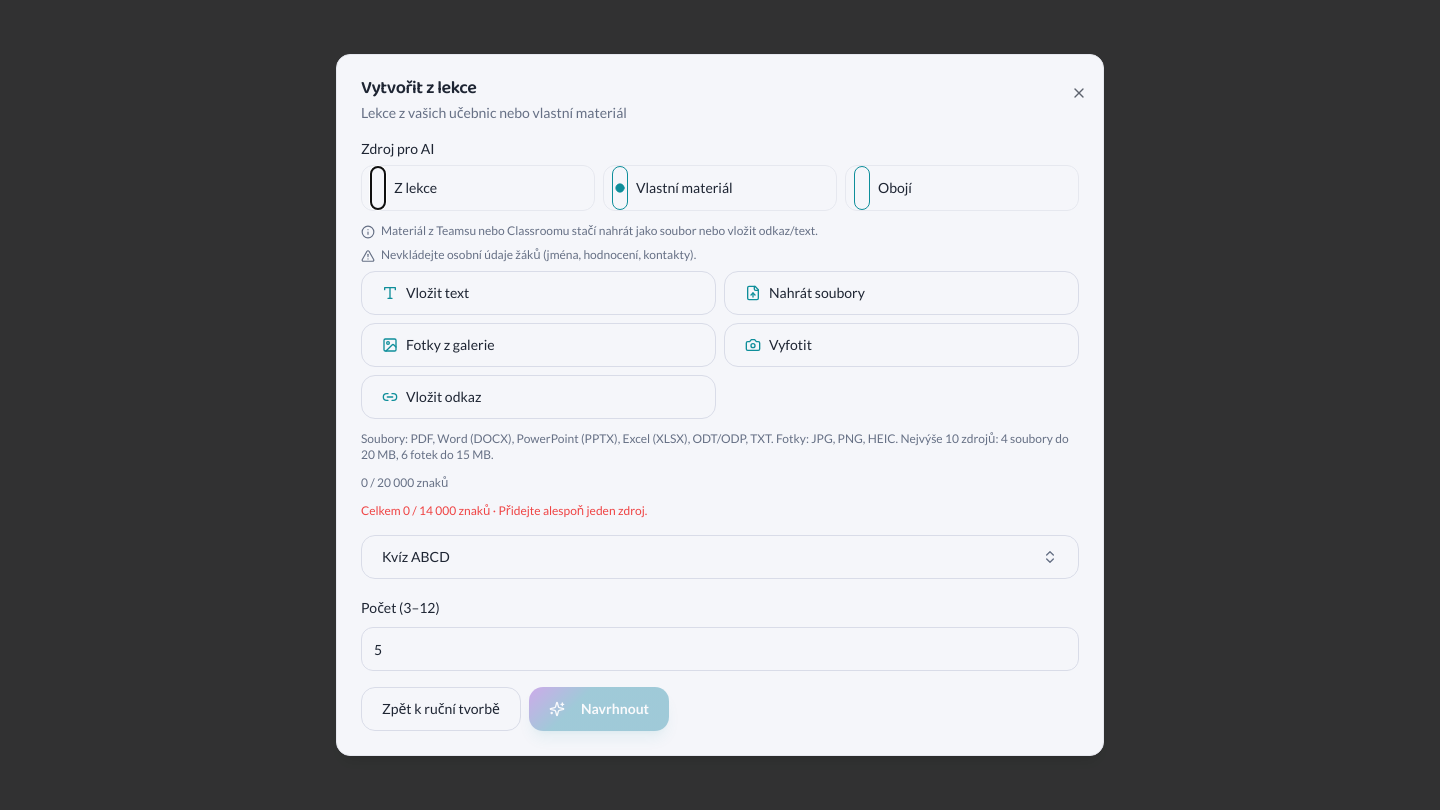
Test case: Vytvořit z lekce – lokální kontrola › bez lekcí poradí další krok a nabídne vložení textu
Later steps or results of the test are not shown.
Expected: the text "Materiál z Teamsu nebo Classroomu" is shown, top-left (381, 223), bottom-right (818, 238)
Expected: the 2nd radio button named "Vlastní materiál" is checked, top-left (612, 166), bottom-right (628, 210)
Click the 1st radio button named "Z lekce": (378, 188) top-left (370, 166), bottom-right (386, 210)
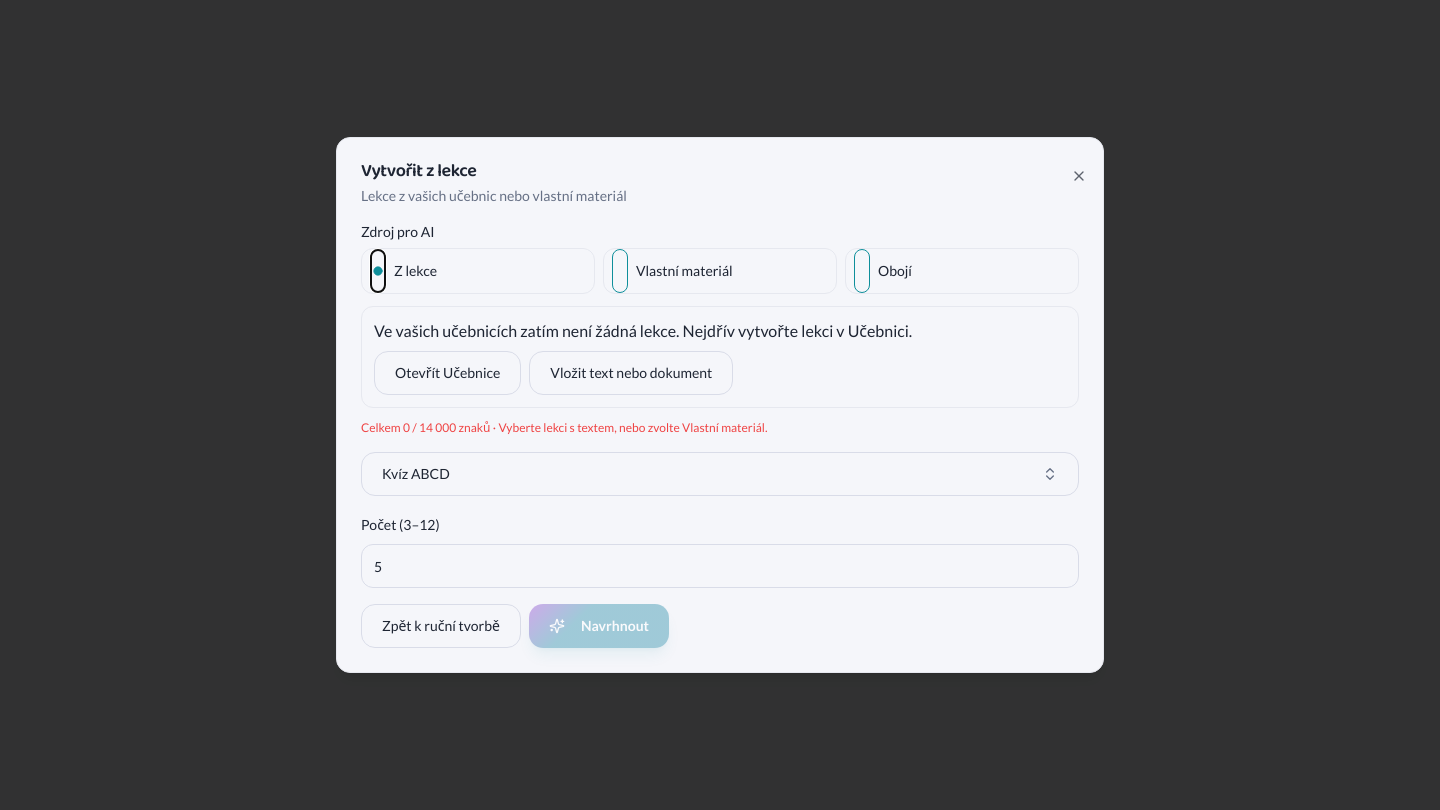
Now the text "Nejdřív vytvořte lekci v Učebnici" is shown, box top-left (374, 321), bottom-right (912, 340)
